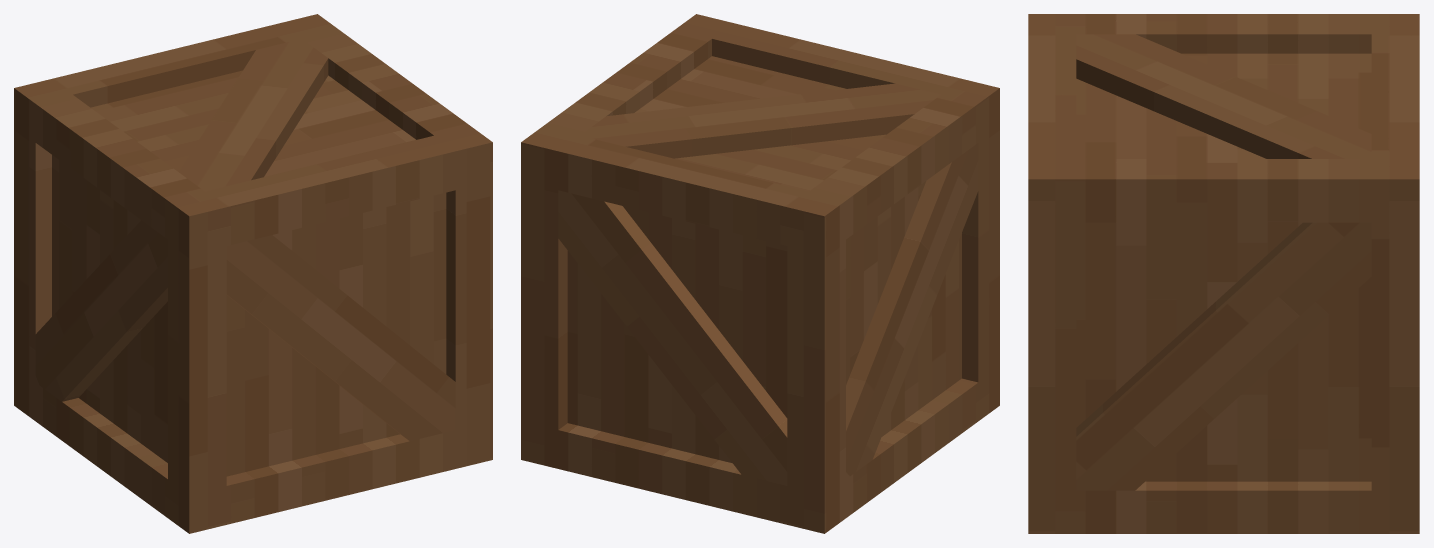
Rendered from factory_box.fbx.
The picture shows the model from 3 angles, left to right: view 1: azimuth 30°, elevation 25°; view 2: azimuth 150°, elevation 25°; view 3: azimuth 270°, elevation 25°; orthographic projection. The views are drawn at different scales.
Parts seen in each view (by area): view 1: FactoryBox; view 2: FactoryBox; view 3: FactoryBox.
Part boxes in pixels (x1,y1,x2,y2): FactoryBox: (14, 14, 492, 533); FactoryBox: (521, 14, 999, 533); FactoryBox: (1028, 14, 1419, 533).
Bounding box in the file's own units: 1000 × 1000 × 1000.
